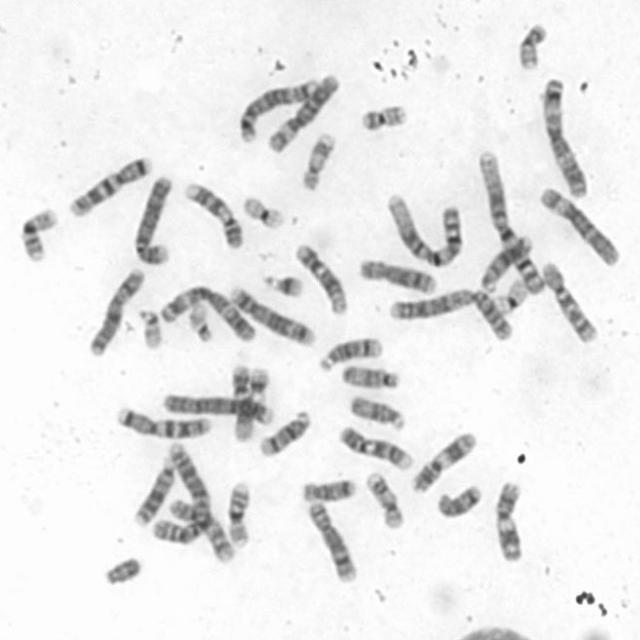A1: (475, 149, 547, 297), (384, 192, 466, 270)
A2: (388, 286, 515, 342), (149, 440, 214, 546)
A3: (541, 77, 590, 199), (159, 284, 257, 343)
B4: (161, 390, 275, 426), (130, 174, 172, 265)
B5: (225, 286, 319, 349), (237, 78, 319, 144)
C10: (540, 262, 598, 347), (167, 496, 235, 563)
C11: (409, 431, 478, 496), (492, 481, 524, 562)
C12: (294, 243, 351, 316), (229, 364, 253, 444)
C6: (536, 186, 622, 270), (266, 73, 337, 153)
C7: (66, 154, 154, 220), (115, 404, 211, 442)
C8: (304, 499, 358, 585), (358, 256, 437, 296)
C9: (184, 182, 244, 250), (337, 423, 413, 472)
D13: (132, 456, 176, 529), (480, 235, 532, 293)
D14: (255, 409, 312, 459), (317, 337, 385, 374)
D15: (348, 394, 408, 432), (342, 364, 402, 391)
E16: (17, 204, 59, 263), (223, 476, 252, 550)
E17: (364, 471, 404, 530), (297, 133, 336, 191)
E18: (435, 483, 484, 520), (298, 476, 358, 506)
F19: (492, 274, 529, 318), (242, 194, 286, 230)
F20: (514, 19, 551, 74), (360, 102, 410, 132)
G21: (260, 273, 304, 300), (247, 366, 271, 404)
G22: (135, 304, 164, 350), (187, 301, 215, 342)
X: (88, 266, 146, 358)
Y: (98, 556, 144, 590)
